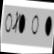correct: (43, 14, 53, 38)
not correct: (11, 9, 27, 39)
